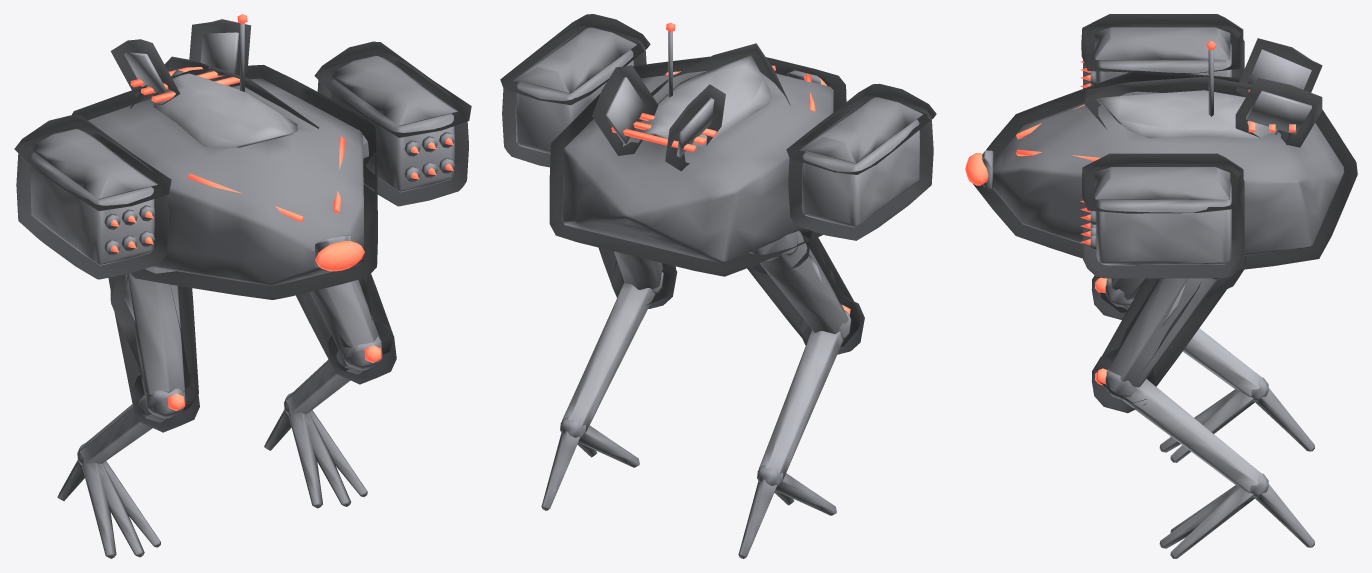
The model's file is hunter_killer.glb.
The picture shows the model from 3 angles, left to right: view 1: azimuth 30°, elevation 25°; view 2: azimuth 150°, elevation 25°; view 3: azimuth 270°, elevation 25°; orthographic projection. The views are drawn at different scales.
Visible parts, largest first — view 1: M_Body, M_Body_Outline, M_LegB_R, M_LegA_L, M_LegB_R_Outline, M_LegA_L_Outline; view 2: M_Body, M_Body_Outline, M_LegB_R, M_LegA_L, M_LegB_R_Outline, M_LegA_L_Outline; view 3: M_Body, M_Body_Outline, M_LegA_L, M_LegB_R, M_LegA_L_Outline, M_LegB_R_Outline.
Boxes of the visible parts, x1,y1,x2,y2 form: M_Body: [28, 14, 458, 285]; M_Body_Outline: [14, 19, 471, 299]; M_LegB_R: [57, 267, 185, 558]; M_LegA_L: [264, 280, 382, 508]; M_LegB_R_Outline: [108, 274, 199, 432]; M_LegA_L_Outline: [296, 274, 396, 384]; M_Body: [513, 22, 922, 263]; M_Body_Outline: [500, 14, 936, 276]; M_LegB_R: [738, 230, 851, 558]; M_LegA_L: [541, 251, 663, 510]; M_LegB_R_Outline: [747, 228, 864, 354]; M_LegA_L_Outline: [598, 247, 677, 308]; M_Body: [965, 27, 1344, 265]; M_Body_Outline: [973, 14, 1357, 279]; M_LegA_L: [1095, 278, 1314, 558]; M_LegB_R: [1095, 277, 1314, 462]; M_LegA_L_Outline: [1091, 255, 1246, 413]; M_LegB_R_Outline: [1091, 275, 1127, 319].
Size of the model in its own units: 3.14 by 3.84 by 2.9.
